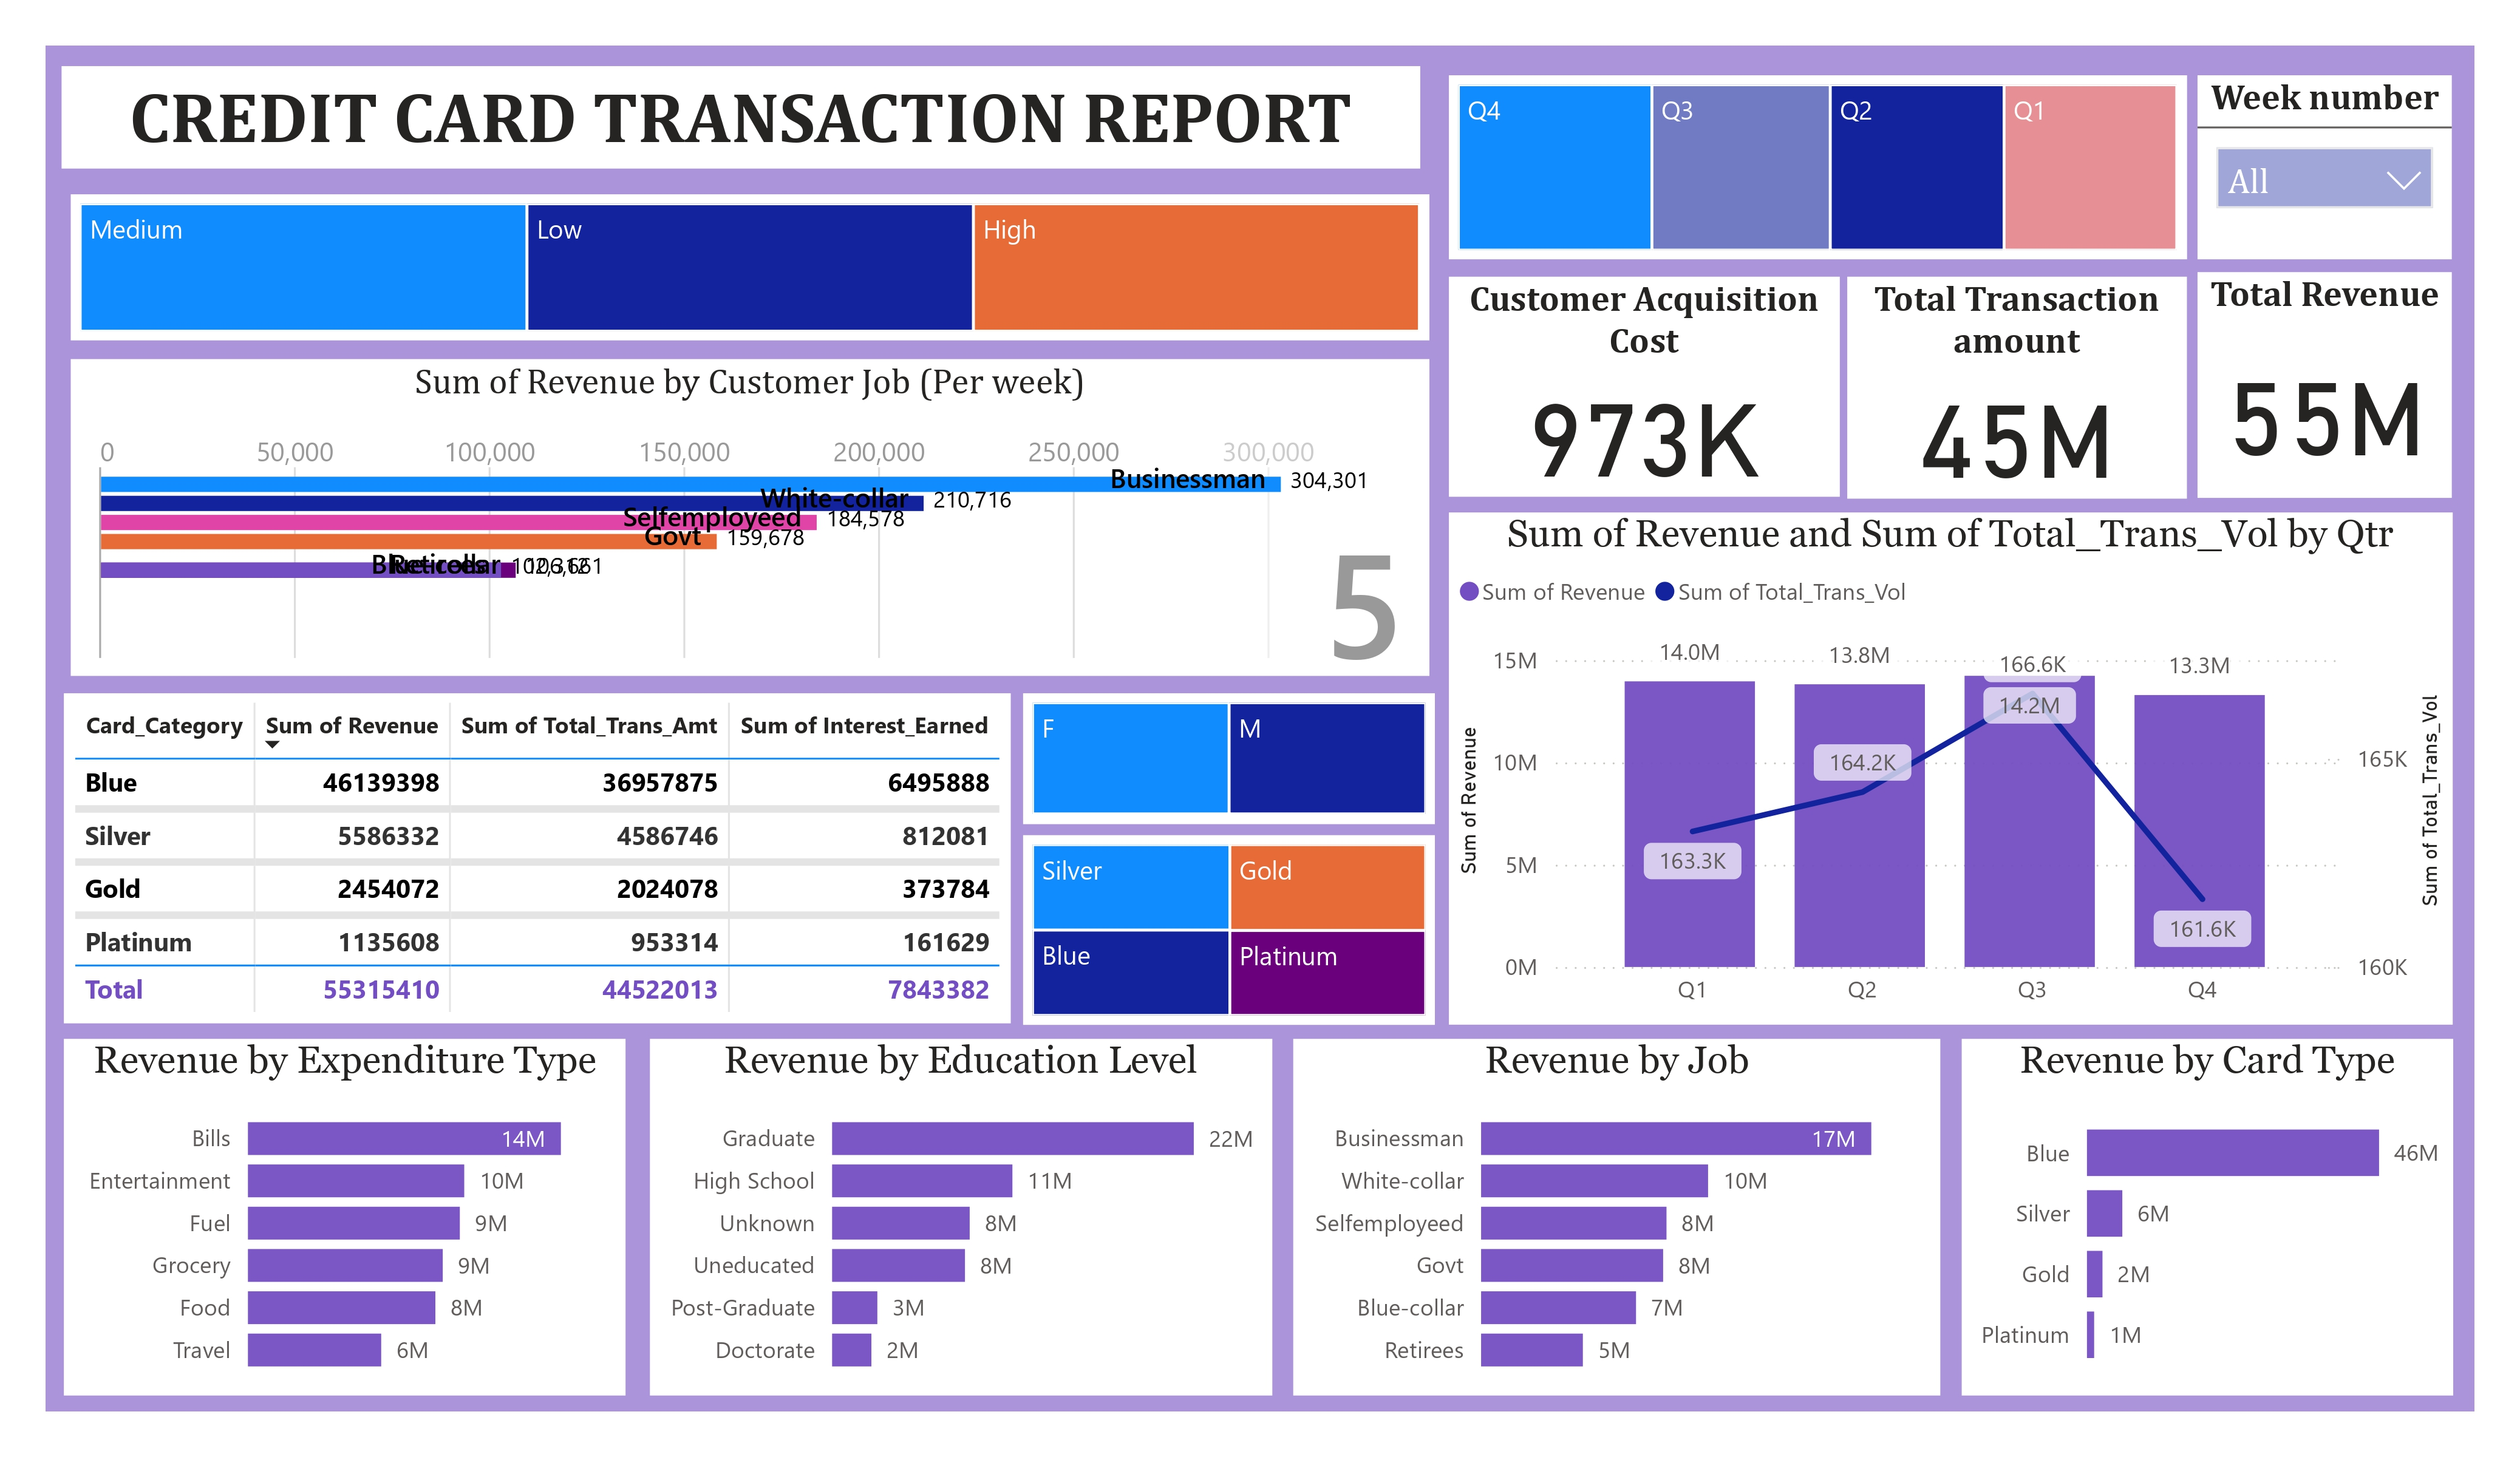

What the dashboard file says about the page in this screenshot:
{"tool":"powerbi","page":{"name":"Page 2","canvas":[1280,720],"ordinal":1},"visuals":[{"type":"textbox","box":[8.6,11.4,715.7,54.3],"z":0},{"type":"lineStackedColumnComboChart","fields":{"Category":["credit_card.Qtr"],"Y":["credit_card.Revenue"],"Y2":["credit_card.Total_Trans_Vol"]},"box":[740,245.7,528.6,270],"z":1000},{"type":"barChart","title":"Revenue by Expenditure Type","fields":{"Category":["credit_card.Exp Type"],"Y":["credit_card.Revenue"]},"box":[10,523.8,296.2,187.5],"z":2000},{"type":"barChart","title":"Revenue by Education Level","fields":{"Y":["credit_card.Revenue"],"Category":["customer.Education_Level"]},"box":[318.8,523.8,327.5,187.5],"z":3000},{"type":"barChart","title":"Revenue by Job","fields":{"Y":["credit_card.Revenue"],"Category":["customer.Customer_Job"]},"box":[657.5,523.8,341.2,187.5],"z":4000},{"type":"barChart","title":"Revenue by Card Type","fields":{"Y":["credit_card.Revenue"],"Category":["credit_card.Card_Category","customer.Customer_Job"]},"box":[1010,523.8,258.8,187.5],"z":5000},{"type":"tableEx","fields":{"Values":["credit_card.Card_Category","credit_card.Revenue","credit_card.Total_Trans_Amt","credit_card.Interest_Earned"]},"box":[10,341.2,498.8,173.8],"z":6000},{"type":"card","title":"Total Revenue","fields":{"Values":["credit_card.Revenue"]},"box":[1134.3,120,134.3,118.6],"z":7000},{"type":"card","title":"Customer Acquisition Cost ","fields":{"Values":["credit_card.Customer_Acq_Cost"]},"box":[740,121.4,205.7,115.7],"z":8000},{"type":"card","title":"Total Transaction amount","fields":{"Values":["credit_card.Total_Trans_Amt"]},"box":[950,121.4,178.6,117.1],"z":9000},{"type":"slicer","title":"Week number","fields":{"Values":["credit_card.Week_Num"]},"box":[1134.3,15.7,134.3,97.1],"z":10000},{"type":"treemap","fields":{"Group":["credit_card.Qtr"],"Values":["credit_card.Client_Num"]},"box":[740,15.7,388.6,97.1],"z":11000},{"type":"treemap","fields":{"Group":["credit_card.Card_Category"],"Values":["credit_card.Client_Num"]},"box":[515.7,415.7,217.1,100],"z":12000},{"type":"treemap","fields":{"Values":["credit_card.Client_Num"],"Group":["customer.Gender"]},"box":[515.7,341.4,217.1,68.6],"z":13000},{"type":"wishyoulizationbarchartrace","title":"Sum of Revenue by Customer Job (Per week)","fields":{"name":["customer.Customer_Job"],"value":["credit_card.Revenue"],"year":["credit_card.week_num2"]},"box":[12.9,165.7,715.7,167.1],"z":14000},{"type":"treemap","fields":{"Values":["credit_card.Client_Num"],"Group":["customer.IncomeGroup"]},"box":[12.9,78.6,715.7,77.1],"z":14001}]}

Visuals, with their boxes on the page's 1280x720 design canvas (x1, y1, x2, y2). These are canvas units, not pixel positions in the 2520x1457 screenshot, which may show the page scaled, cropped or inside an application window:
textbox: x1=9, y1=11, x2=724, y2=66
lineStackedColumnComboChart - credit_card.Qtr x credit_card.Revenue: x1=740, y1=246, x2=1269, y2=516
"Revenue by Expenditure Type" barChart: x1=10, y1=524, x2=306, y2=711
"Revenue by Education Level" barChart: x1=319, y1=524, x2=646, y2=711
"Revenue by Job" barChart: x1=658, y1=524, x2=999, y2=711
"Revenue by Card Type" barChart: x1=1010, y1=524, x2=1269, y2=711
tableEx - credit_card.Card_Category x credit_card.Revenue: x1=10, y1=341, x2=509, y2=515
"Total Revenue" card: x1=1134, y1=120, x2=1269, y2=239
"Customer Acquisition Cost " card: x1=740, y1=121, x2=946, y2=237
"Total Transaction amount" card: x1=950, y1=121, x2=1129, y2=238
"Week number" slicer: x1=1134, y1=16, x2=1269, y2=113
treemap - credit_card.Qtr x credit_card.Client_Num: x1=740, y1=16, x2=1129, y2=113
treemap - credit_card.Card_Category x credit_card.Client_Num: x1=516, y1=416, x2=733, y2=516
treemap - credit_card.Client_Num x customer.Gender: x1=516, y1=341, x2=733, y2=410
"Sum of Revenue by Customer Job (Per week)" wishyoulizationbarchartrace: x1=13, y1=166, x2=729, y2=333
treemap - credit_card.Client_Num x customer.IncomeGroup: x1=13, y1=79, x2=729, y2=156
